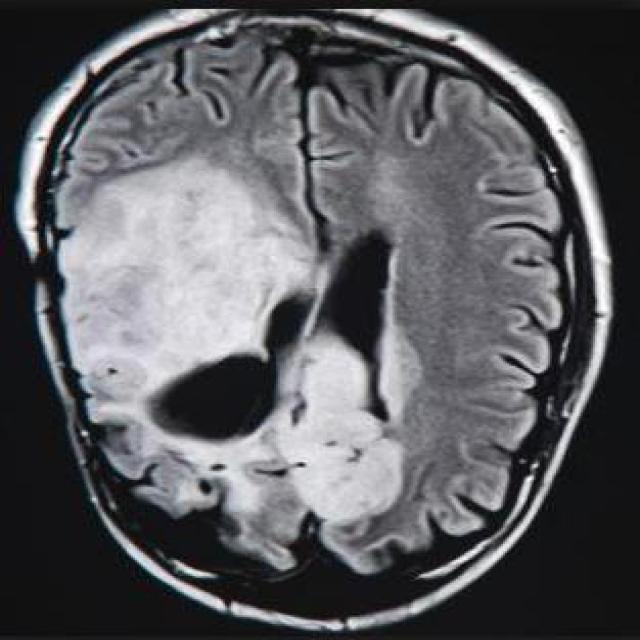brain tumor: (57, 162, 423, 587)
